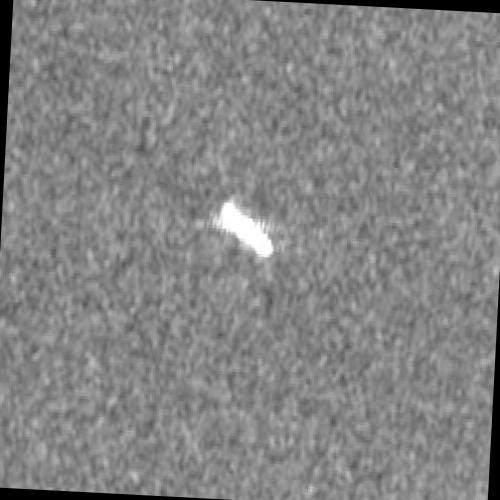ship: (218, 198, 273, 257)
